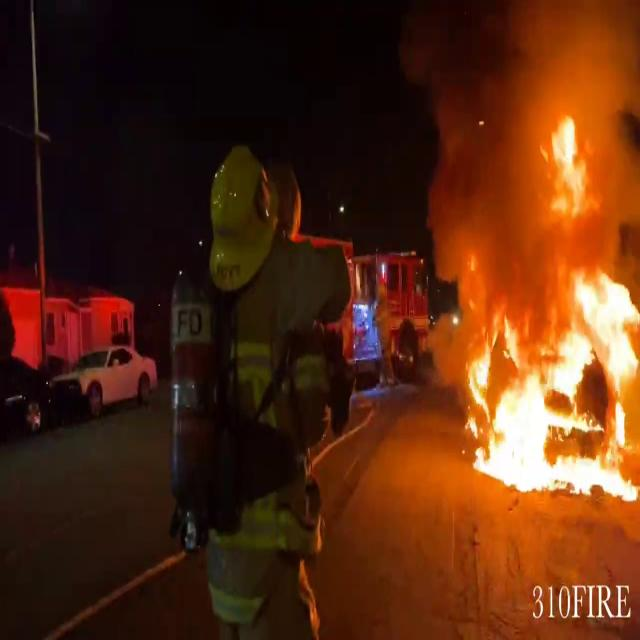Fire: (459, 135, 640, 502)
Smoke: (396, 0, 639, 261)
